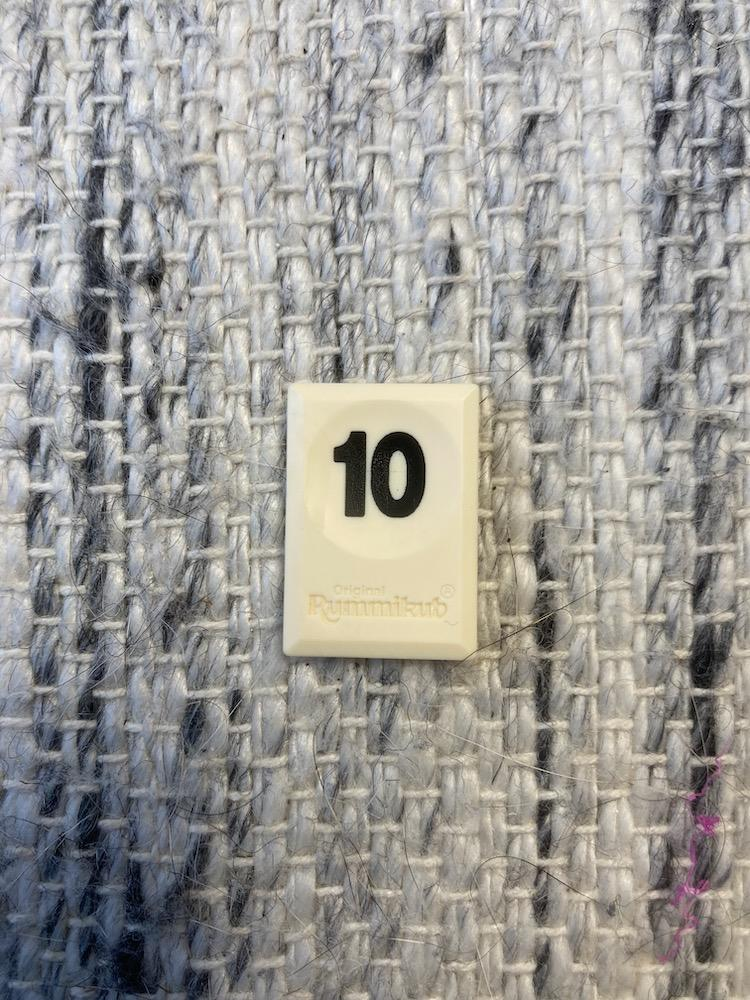black_10: (283, 383, 479, 660)
